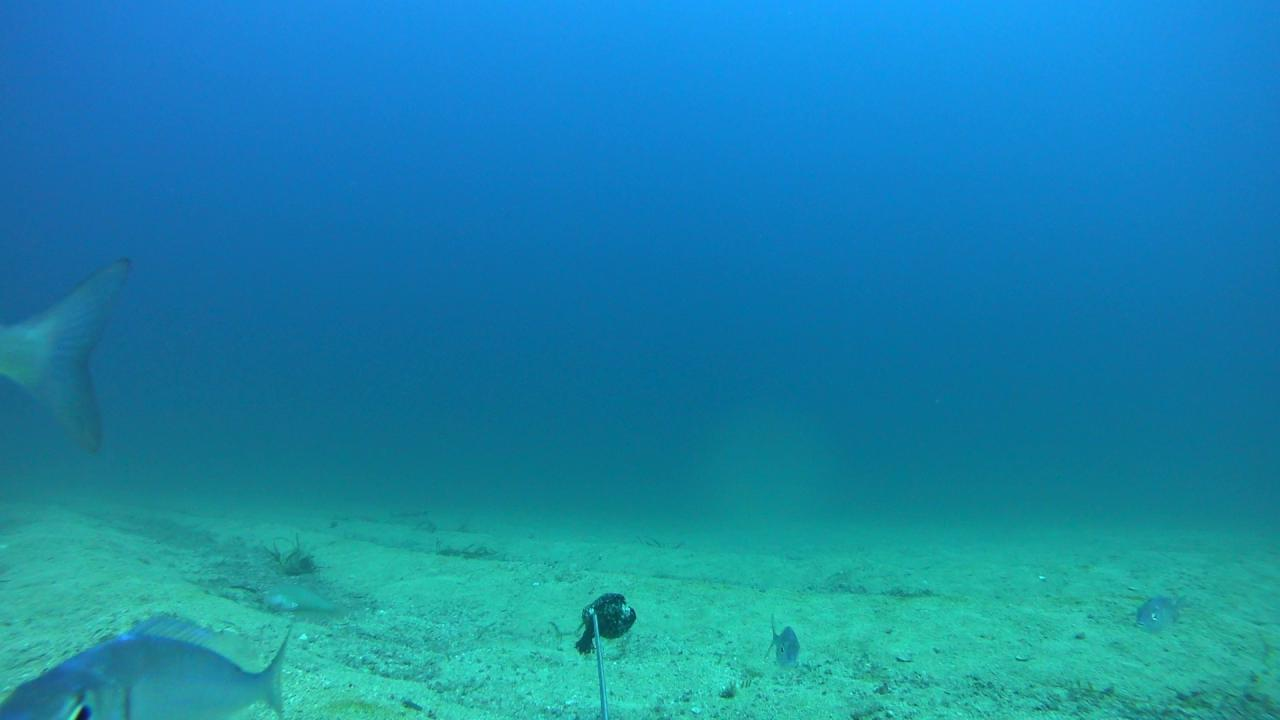pagellus: (1135, 593, 1187, 634), (765, 618, 799, 668)
